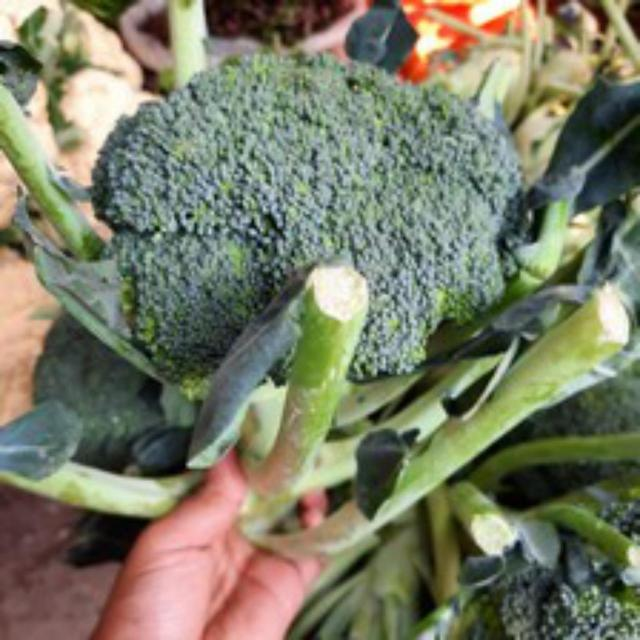broccoli: (94, 62, 530, 388)
